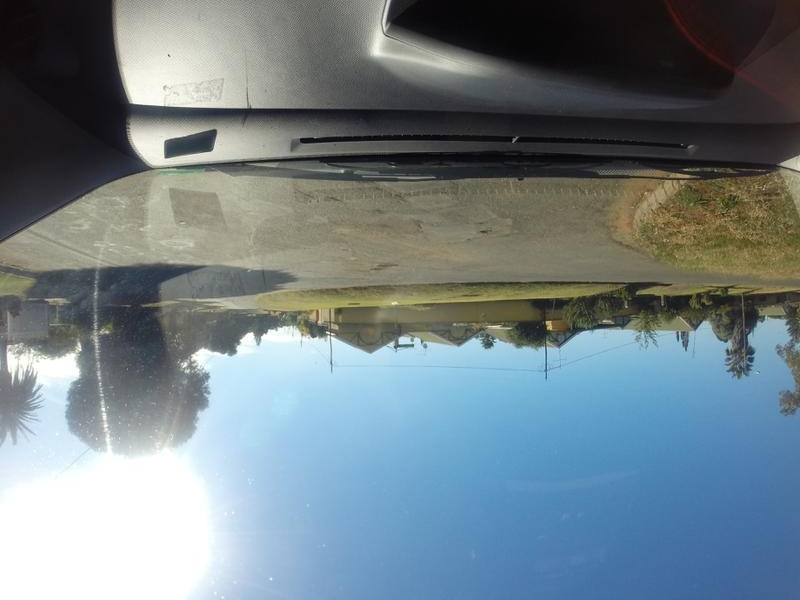pothole: (464, 222, 493, 241), (364, 259, 400, 272), (317, 193, 344, 210)
